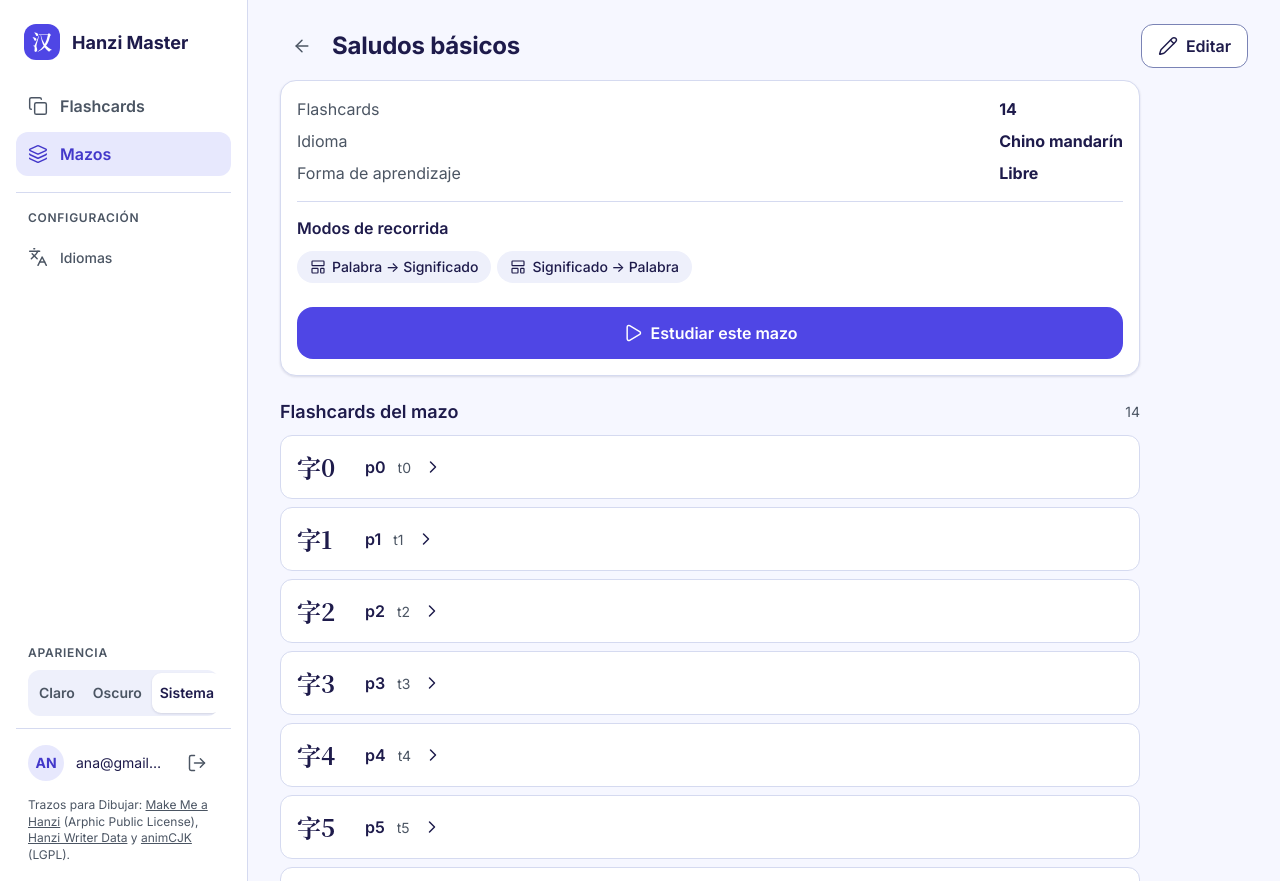
Test: M03 · Detalle de mazo › M03-3 Estudiar este mazo abre la selección de modo (M04)
The width and height of the screenshot is (1280, 881).
Check: the element named "Resumen del mazo" is shown, box x1=280 y1=80 x2=1140 y2=376
What coordinates should you click on to do the following:
click the button "Estudiar este mazo"
I would click on:
 (710, 333)
Its box is x1=297 y1=307 x2=1123 y2=359.
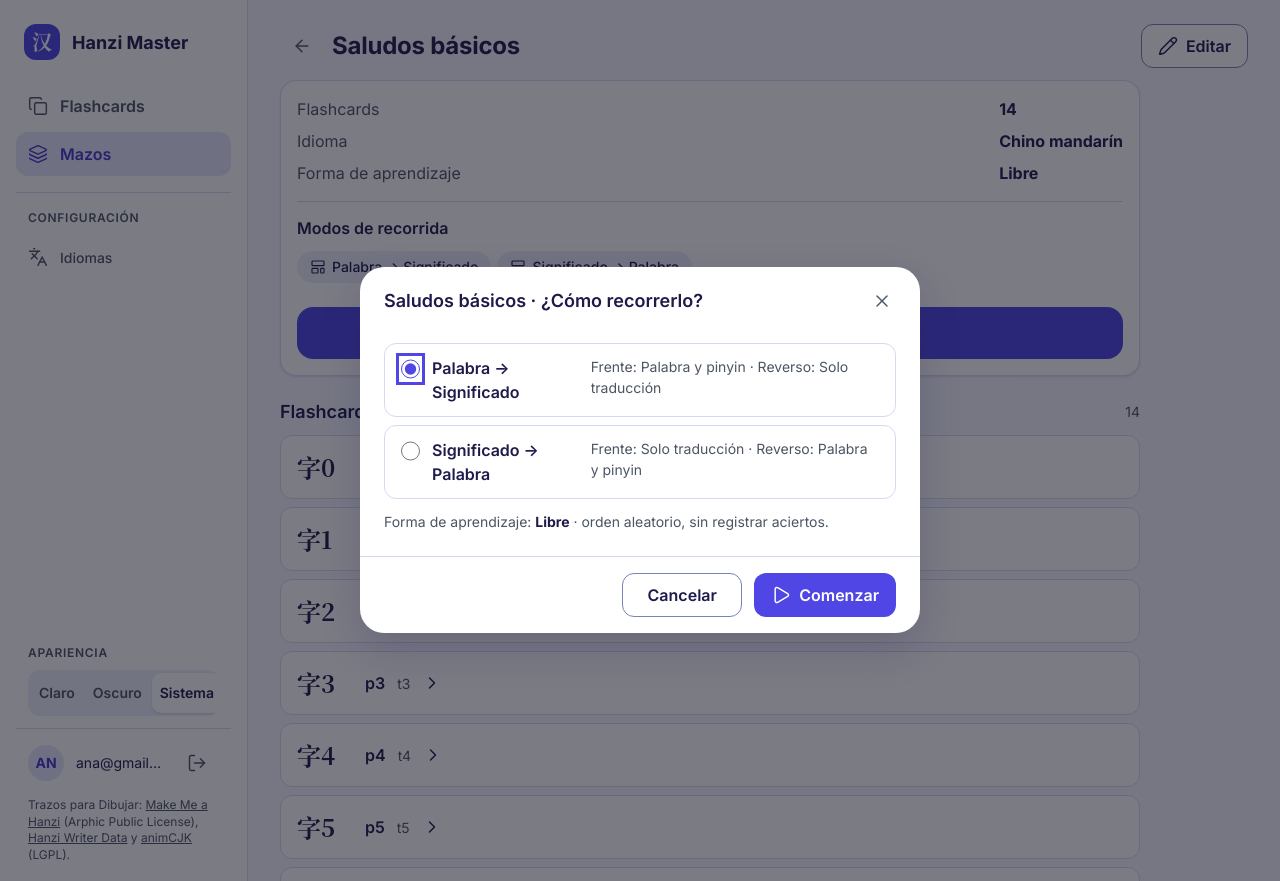
Check: the dialog "Saludos básicos · ¿Cómo recorrerlo?" is shown, box x1=360 y1=267 x2=920 y2=633
